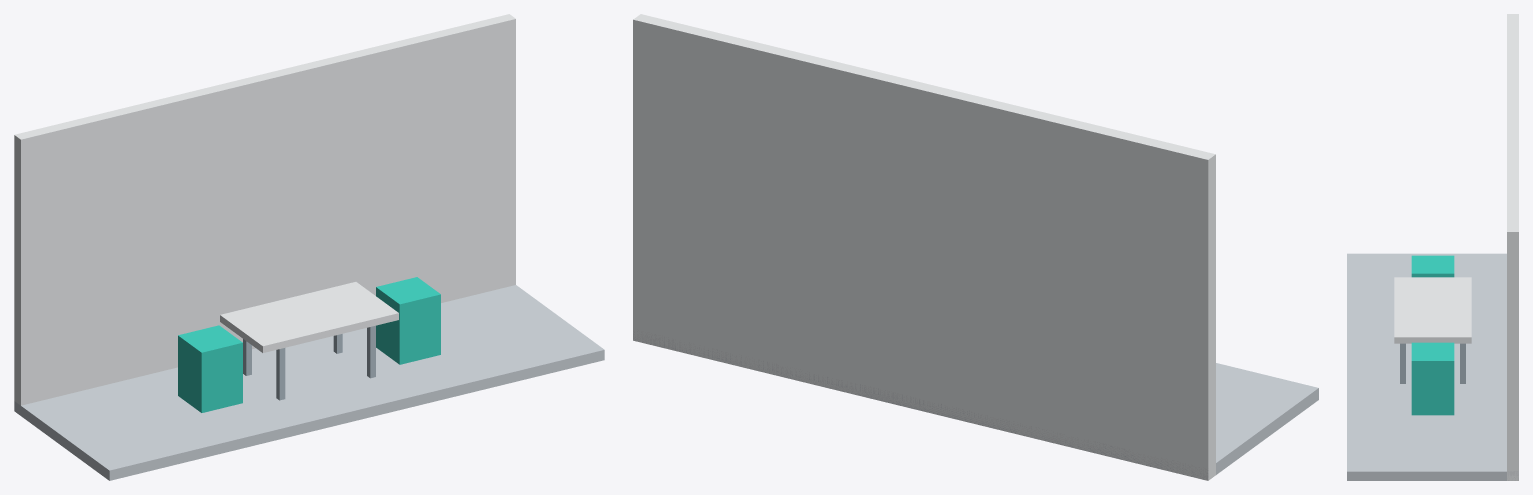
The picture shows the model from 3 angles, left to right: view 1: azimuth 30°, elevation 25°; view 2: azimuth 150°, elevation 25°; view 3: azimuth 270°, elevation 25°; orthographic projection. The views are drawn at different scales.
Parts seen in each view (by area): view 1: Exhibition Booth Concept; view 2: Exhibition Booth Concept; view 3: Exhibition Booth Concept.
Part boxes in pixels (x1,y1,x2,y2): Exhibition Booth Concept: (14, 14, 604, 480); Exhibition Booth Concept: (633, 14, 1318, 480); Exhibition Booth Concept: (1347, 14, 1518, 480).
Bounding box in the file's own units: 6 × 3.2 × 2.
